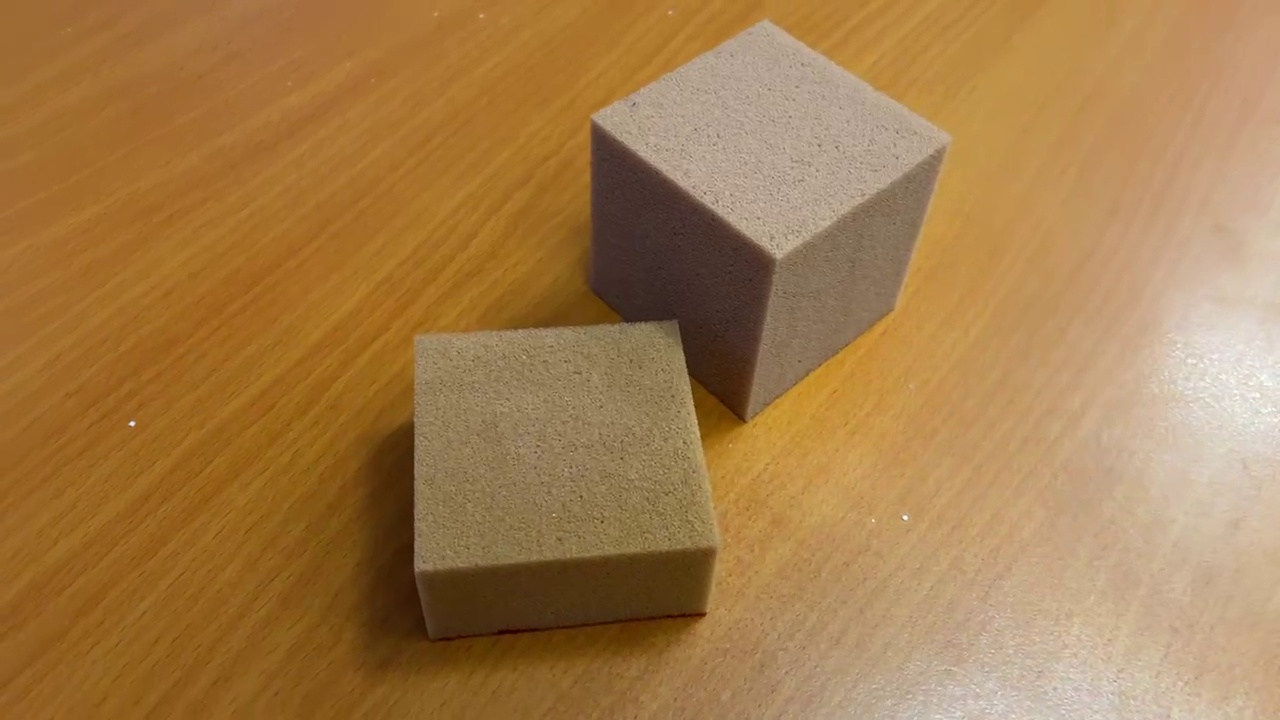Cube: (575, 12, 952, 426)
Cube_short: (403, 315, 722, 646)
